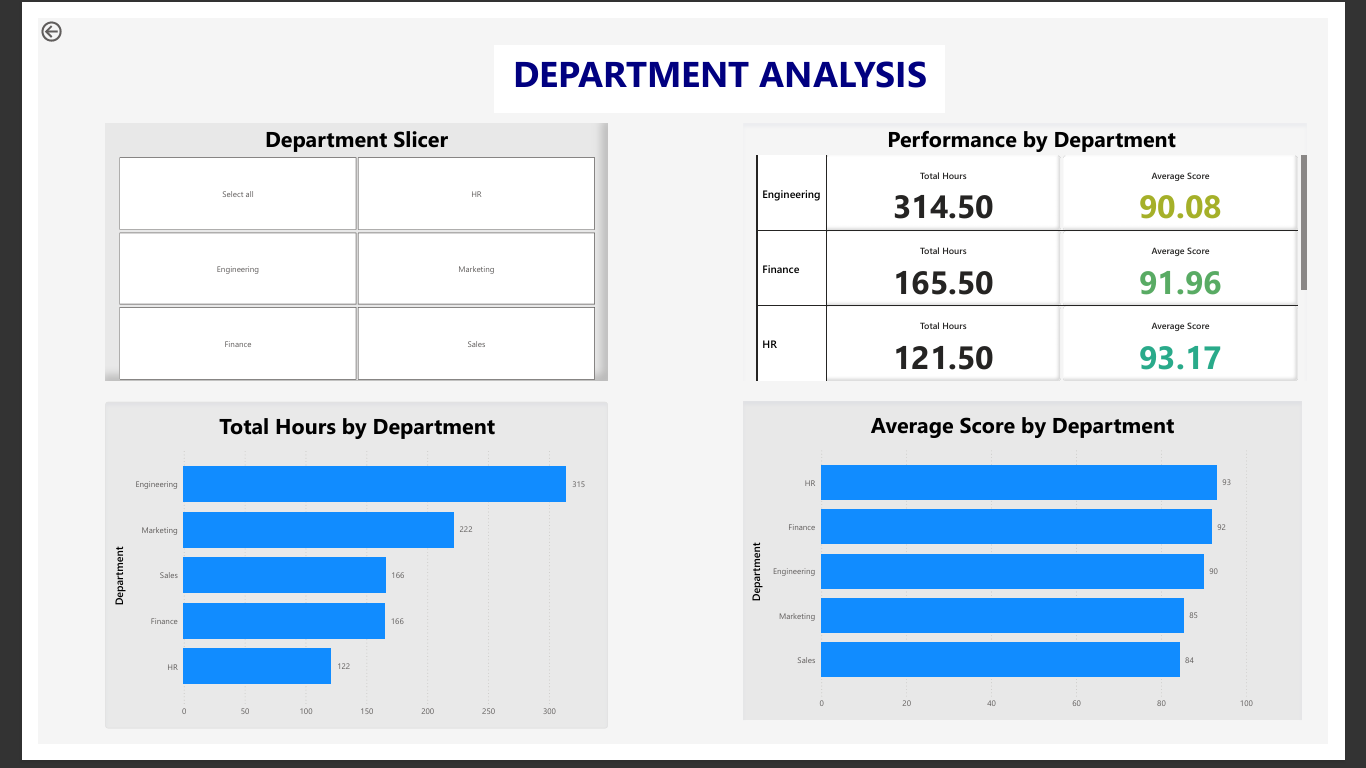

What the dashboard file says about the page in this screenshot:
{"tool":"powerbi","page":{"name":"Departmental Analystis","canvas":[1920,1080],"ordinal":2},"visuals":[{"type":"clusteredBarChart","fields":{"Category":["PerformanceData.Department"],"Y":["PerformanceData.Average Score"]},"box":[1050,571.4,831,473.8],"z":0},{"type":"clusteredBarChart","fields":{"Category":["PerformanceData.Department"],"Y":["PerformanceData.Total Hours"]},"box":[100,571.4,747.6,485.7],"z":1000},{"type":"actionButton","box":[0,0,100,40],"z":2000},{"type":"slicer","title":"Department Slicer","fields":{"Values":["PerformanceData.Department"]},"box":[100,157.1,747.6,383.3],"z":3000},{"type":"textbox","box":[678.6,40.5,671.4,100],"z":4000},{"type":"cardVisual","title":"Performance by Department","fields":{"Rows":["PerformanceData.Department"],"Data":["PerformanceData.Total Hours","PerformanceData.Average Score"]},"box":[1050,157.1,838.1,383.3],"z":5000}]}

Visuals, with their boxes in screenshot pixels (x1, y1, x2, y2), scaled from the page's 1920x1080 canvas onto the 1366x768 screenshot:
clusteredBarChart - PerformanceData.Department x PerformanceData.Average Score: rect(747, 406, 1338, 743)
clusteredBarChart - PerformanceData.Department x PerformanceData.Total Hours: rect(71, 406, 603, 752)
actionButton: rect(0, 0, 71, 28)
"Department Slicer" slicer: rect(71, 112, 603, 384)
textbox: rect(483, 29, 960, 100)
"Performance by Department" cardVisual: rect(747, 112, 1343, 384)
